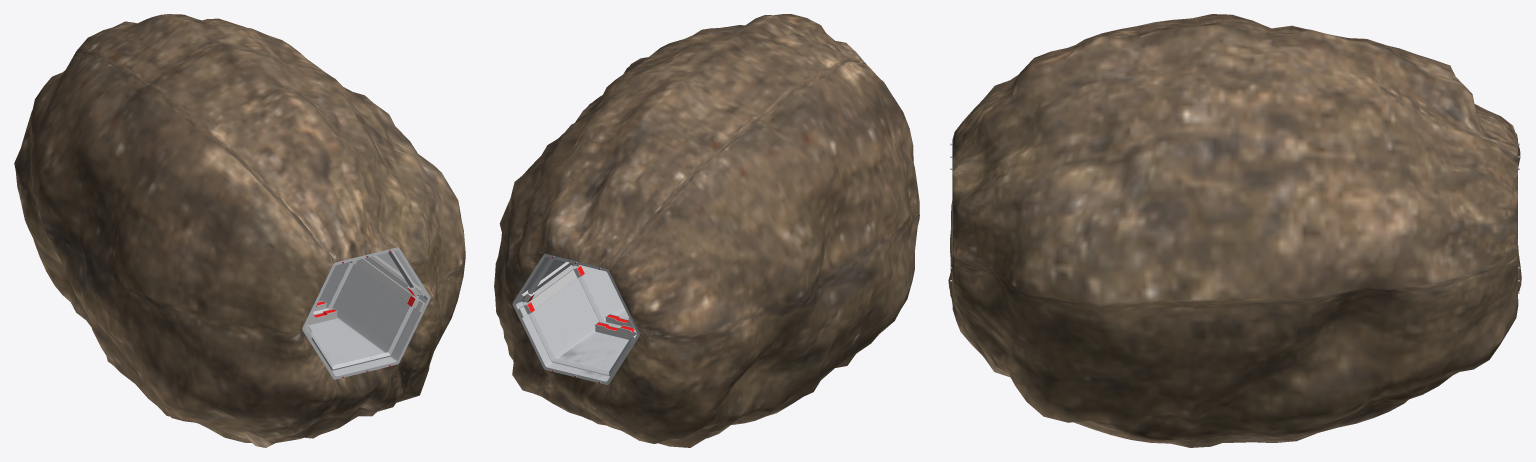
File: SpaceStation.fbx
3 views of the same model, side by side, from view 1: azimuth 30°, elevation 25°; view 2: azimuth 150°, elevation 25°; view 3: azimuth 270°, elevation 25° (orthographic). The views are drawn at different scales.
Parts seen in each view (by area): view 1: polySurface192; view 2: polySurface192; view 3: polySurface192.
Part boxes in pixels (left/top/right/bottom): polySurface192: left=14, top=14, right=465, bottom=447; polySurface192: left=494, top=14, right=919, bottom=447; polySurface192: left=948, top=14, right=1521, bottom=447.
Bounding box in the file's own units: 11579 × 13321 × 17177.
